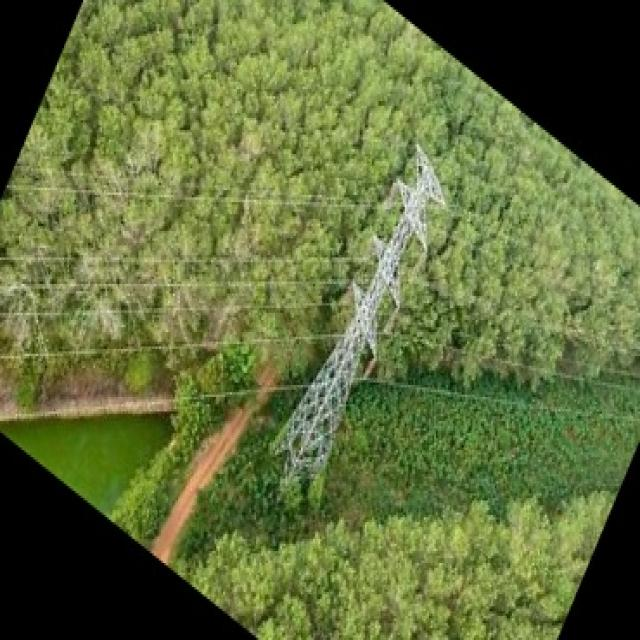utility poles: (264, 118, 464, 522)
